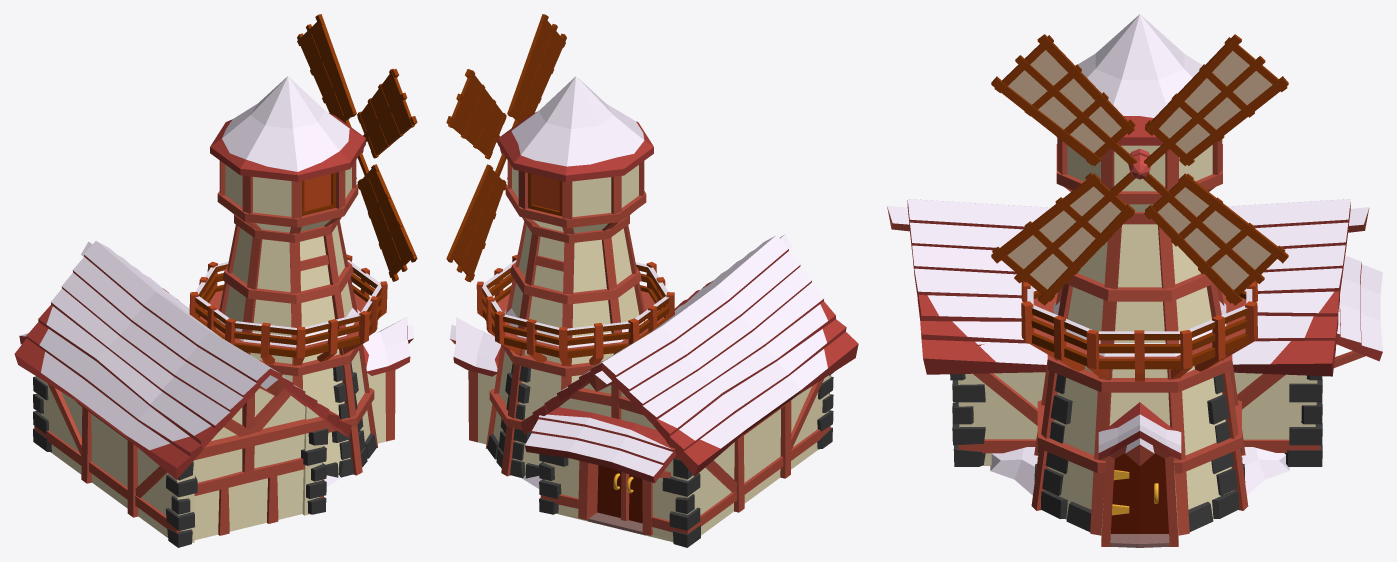
Rendered from Molino.fbx.
3 views of the same model, side by side, from view 1: azimuth 30°, elevation 25°; view 2: azimuth 150°, elevation 25°; view 3: azimuth 270°, elevation 25° (orthographic). The views are drawn at different scales.
Parts seen in each view (by area): view 1: Windmill_Cube.145, Windmill_Cube.000; view 2: Windmill_Cube.145, Windmill_Cube.000; view 3: Windmill_Cube.145, Windmill_Cube.000.
Boxes of the visible parts, <box> form: Windmill_Cube.145: <box>14,76,413,547</box>; Windmill_Cube.000: <box>297,14,417,281</box>; Windmill_Cube.145: <box>449,76,858,547</box>; Windmill_Cube.000: <box>446,14,566,282</box>; Windmill_Cube.145: <box>887,14,1382,547</box>; Windmill_Cube.000: <box>991,34,1288,305</box>.
Bounding box in the file's own units: 576 × 670 × 605.
